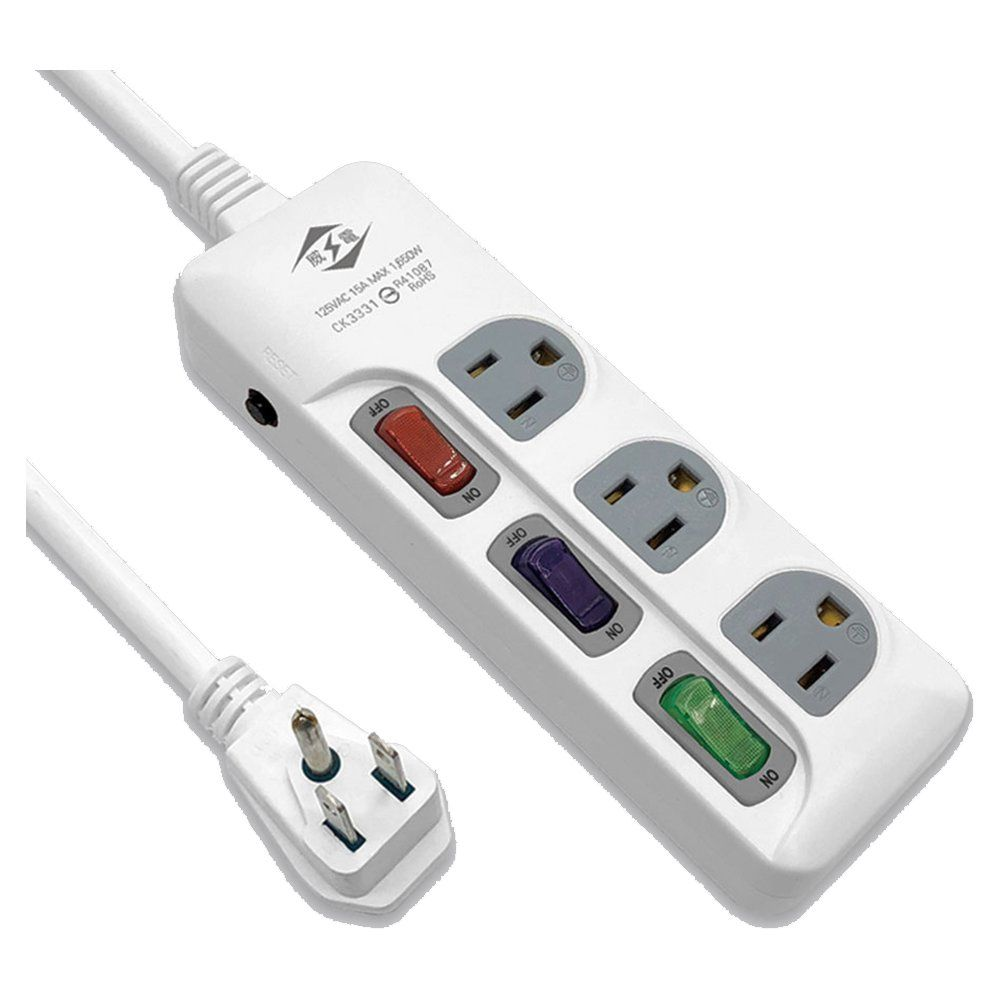socket: (173, 141, 975, 929)
